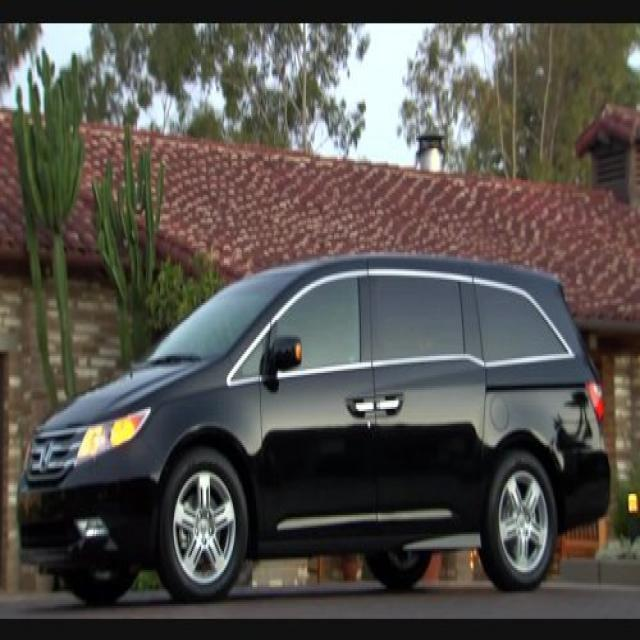car: (18, 252, 612, 606)
